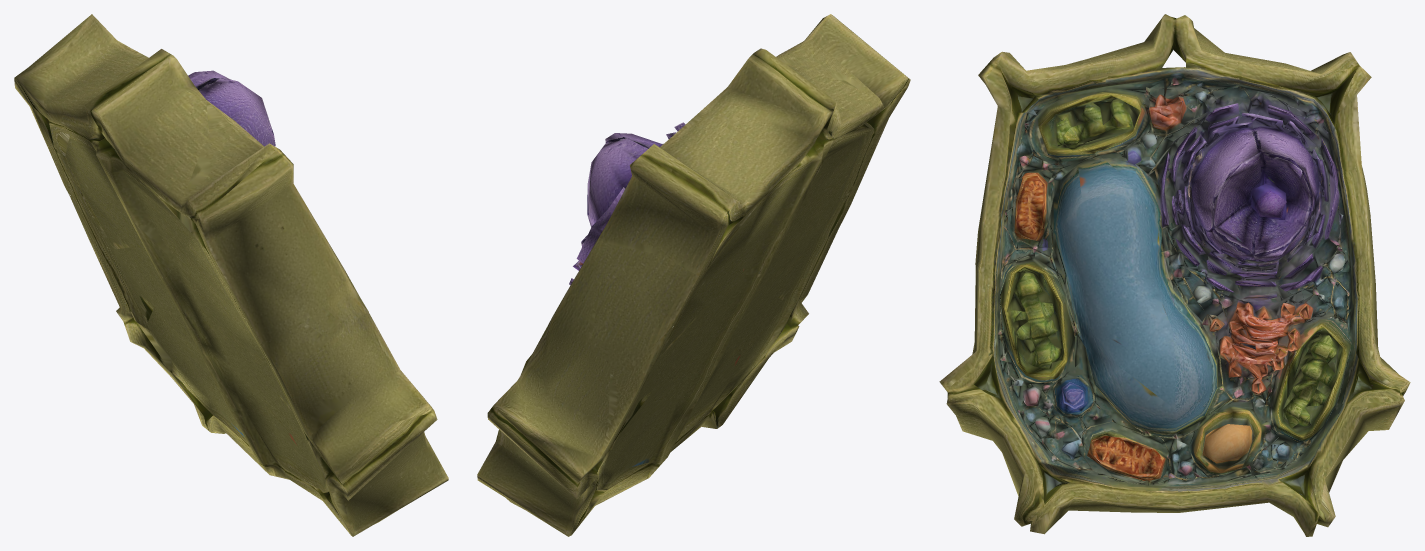
File: plant.gltf
The picture shows the model from 3 angles, left to right: view 1: azimuth 30°, elevation 25°; view 2: azimuth 150°, elevation 25°; view 3: azimuth 270°, elevation 25°; orthographic projection.
Visible parts, largest first — view 1: tripo_node_b85e6d6e-bcc2-42af-8363-698f06edf673; view 2: tripo_node_b85e6d6e-bcc2-42af-8363-698f06edf673; view 3: tripo_node_b85e6d6e-bcc2-42af-8363-698f06edf673.
Part boxes in pixels (x1,y1,x2,y2): tripo_node_b85e6d6e-bcc2-42af-8363-698f06edf673: (14,14,448,536); tripo_node_b85e6d6e-bcc2-42af-8363-698f06edf673: (477,14,910,536); tripo_node_b85e6d6e-bcc2-42af-8363-698f06edf673: (939,14,1410,536).
Bounding box in the file's own units: 0.6336 × 0.9746 × 0.9197.
Materials: 1 (1 with a texture image).
